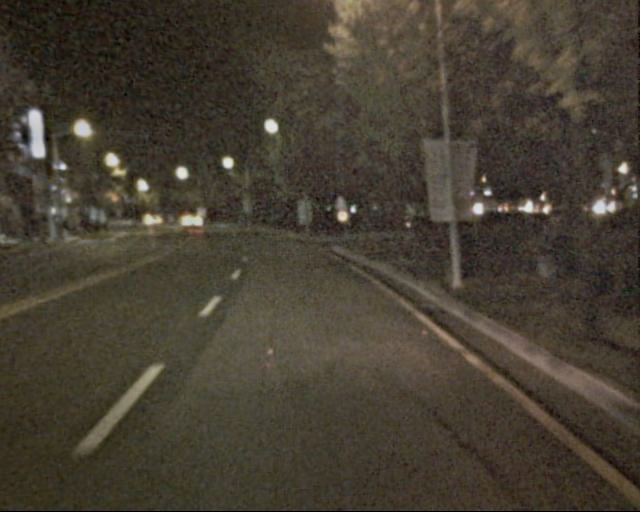person: (523, 211, 564, 311)
